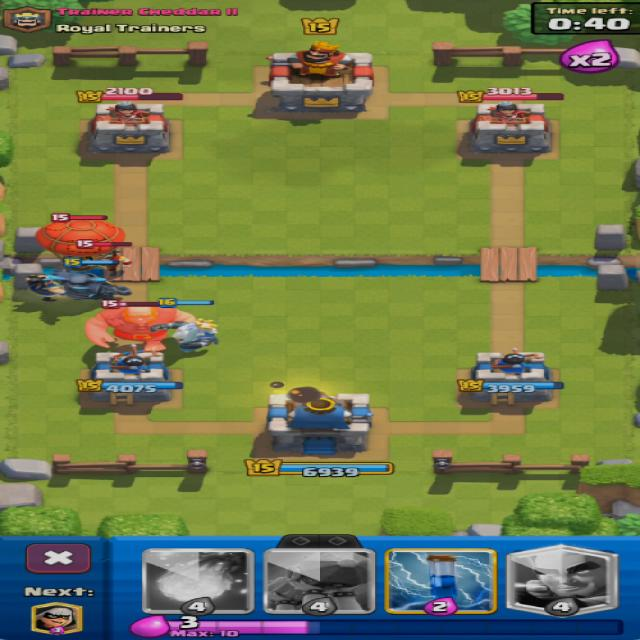Enemy-Balloon: (37, 220, 124, 256)
Enemy-ElectroWizard: (102, 248, 131, 279)
Enemy-Giant: (86, 308, 195, 351)
Enemy-KingTower: (269, 41, 372, 113)
Enemy-PrincessTower: (470, 102, 552, 154), (88, 103, 169, 154)
Player-ElectroWizard: (28, 275, 64, 301)
Player-KingTower-Activated: (266, 387, 372, 455)
Player-PEKKA: (54, 270, 131, 299)
Player-PrincessTower: (78, 345, 182, 404), (458, 348, 563, 405)
Player-RoyalGhost: (152, 319, 216, 352)
